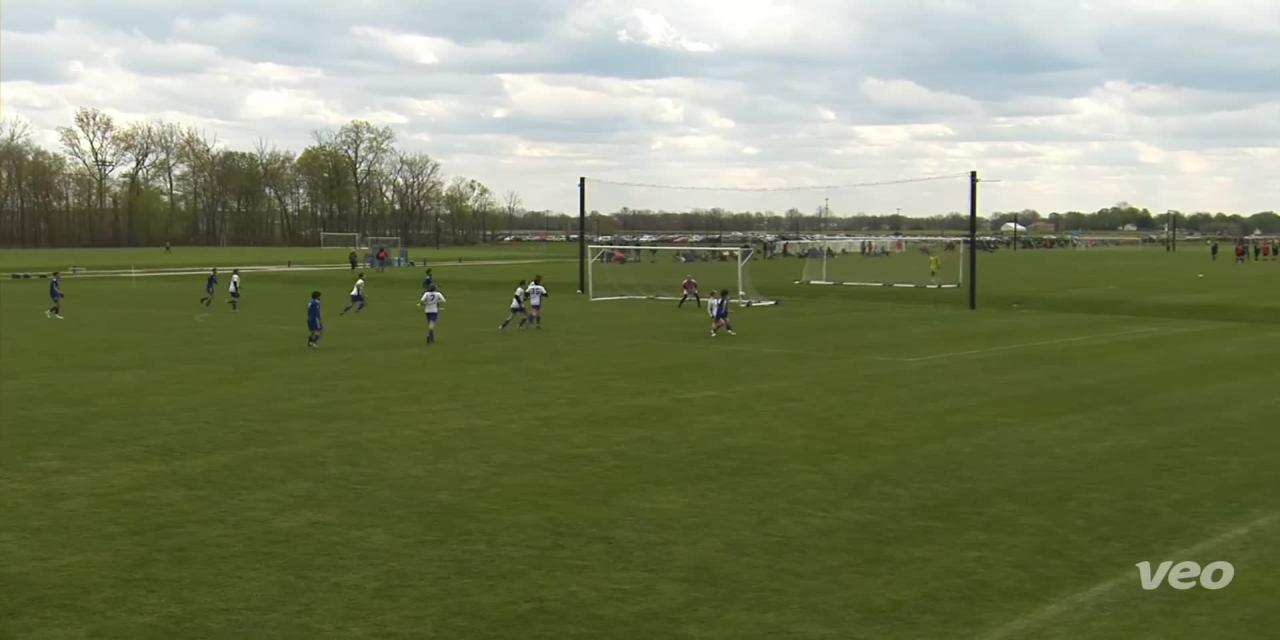goal: (579, 239, 791, 315)
sports ball: (736, 284, 753, 302)
